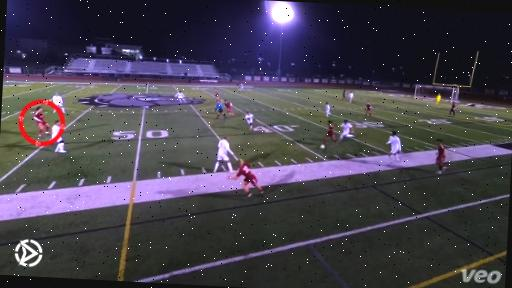highlight_overlay: (17, 97, 68, 148)
